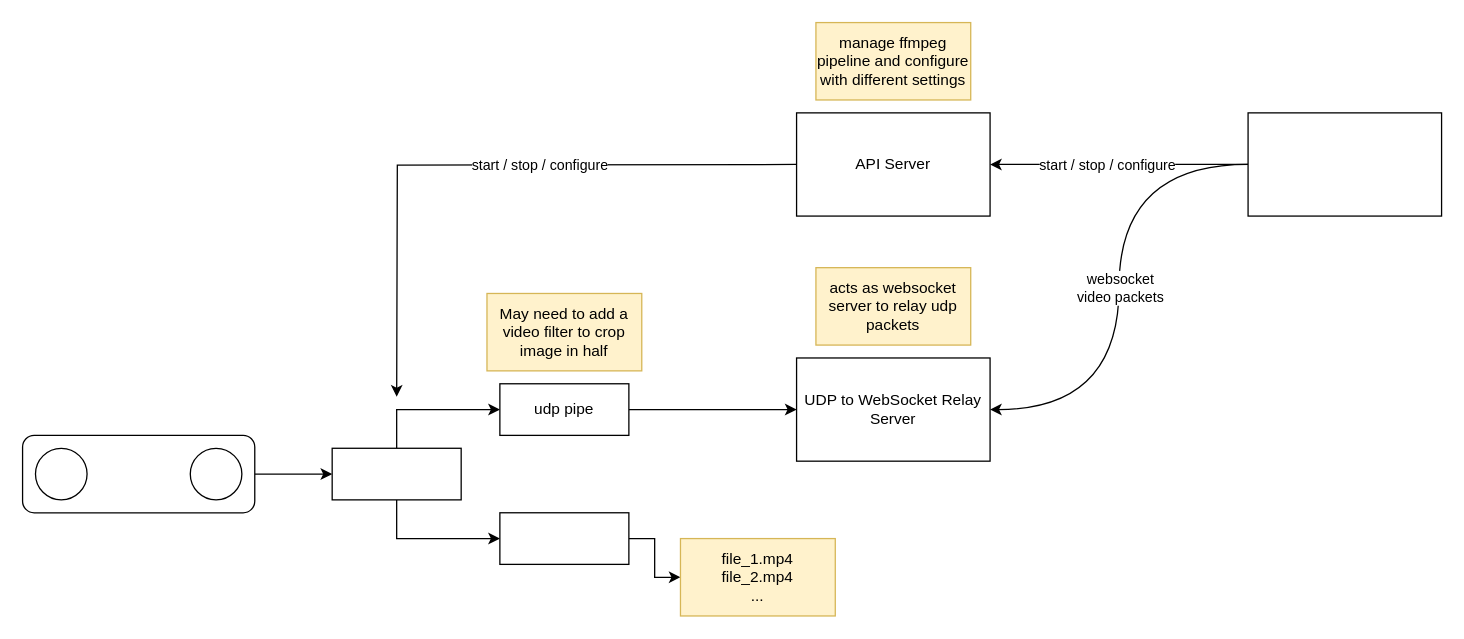
Image size: 1464x639. Some labels were removed from this diagram. The shapes that lost their labels are listed below. From the top down, each one's centre as x and y in pixels, then its label:
the point at 1344,164: Web Application
the point at 396,473: ffmpeg
the point at 564,537: disk pipe
